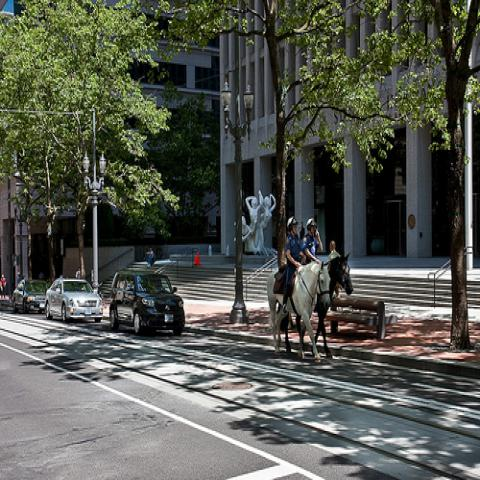car: (107, 266, 187, 332), (44, 277, 104, 322), (10, 275, 50, 314)
